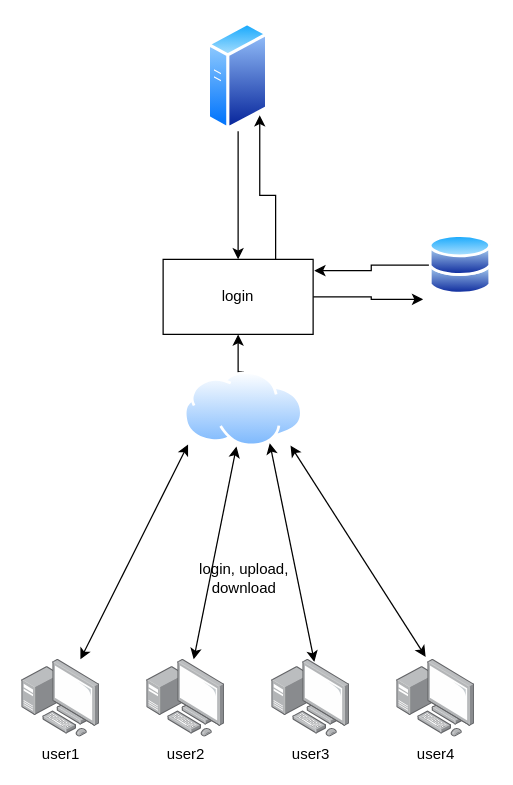
The diagram is 513 pixels wide and 785 high, and some of its shapes have lost their labels. The box of each missing label's shape, as (x1, y1, x2, y2) in pixels:
server: (207, 21, 268, 131)
users: (429, 234, 491, 295)
